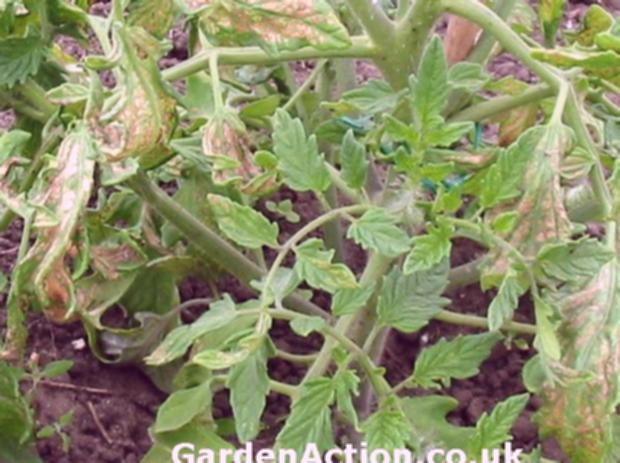Tomato leaf mosaic virus: (377, 239, 453, 335), (469, 126, 544, 219), (149, 287, 235, 368), (406, 332, 502, 394), (271, 107, 333, 193), (228, 333, 272, 438), (208, 191, 279, 252), (413, 26, 450, 143), (465, 389, 528, 453), (293, 242, 356, 301), (526, 236, 612, 278), (0, 23, 45, 95), (350, 210, 411, 260)
